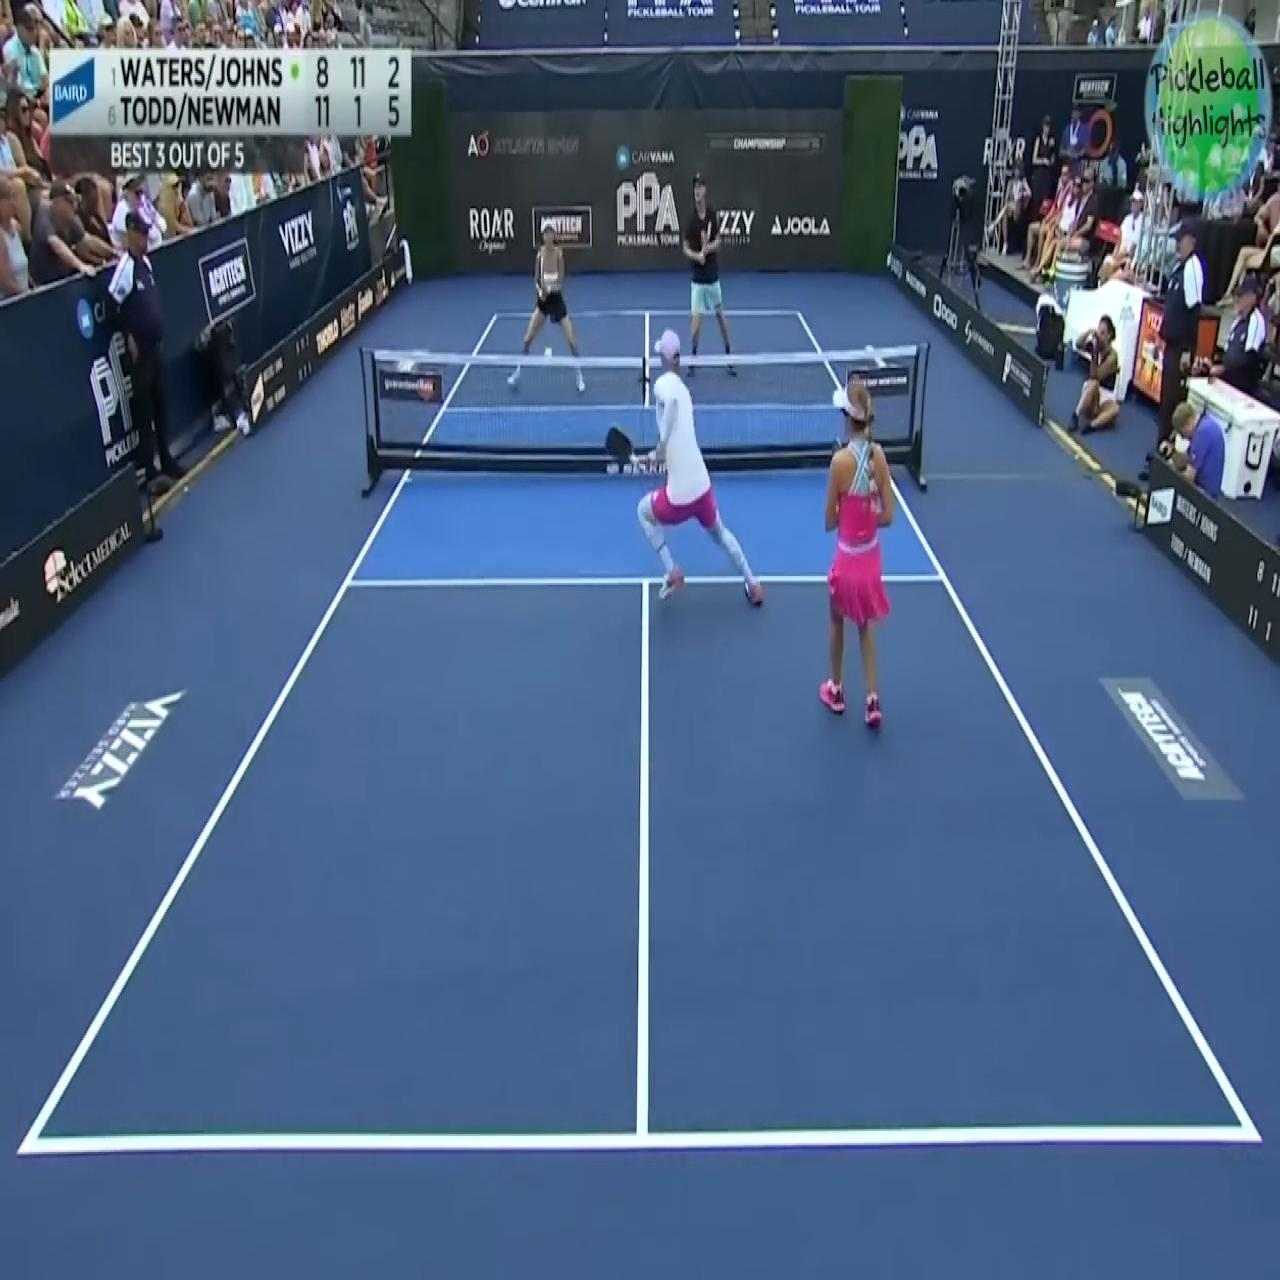Pickleball: (542, 341, 554, 362)
